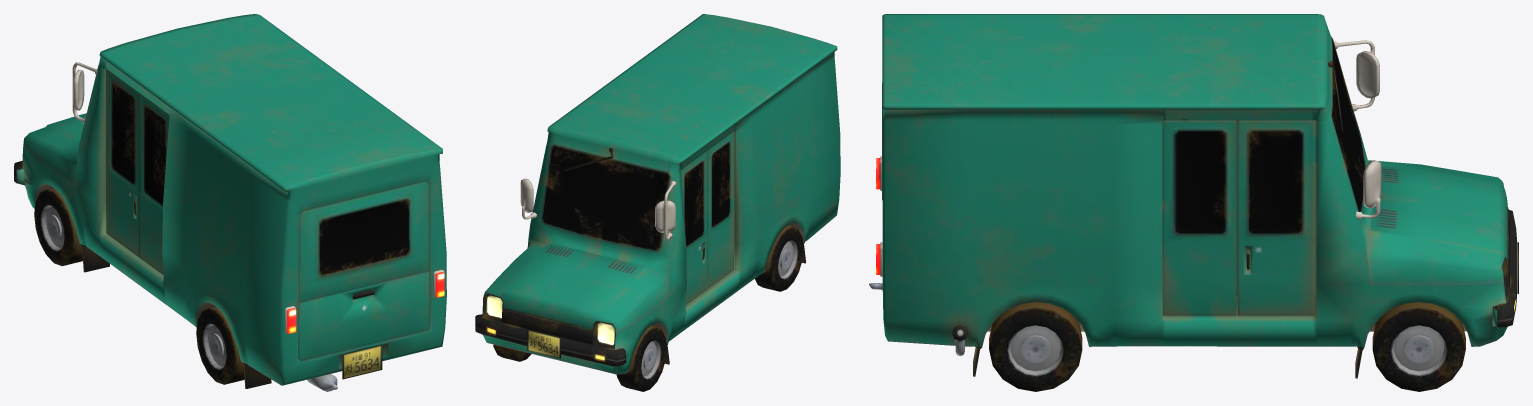
File: car-truck.glb
3 renders of one model, left to right at view 1: azimuth 30°, elevation 25°; view 2: azimuth 150°, elevation 25°; view 3: azimuth 270°, elevation 25°, orthographic. The views are drawn at different scales.
Visible parts, largest first — view 1: car-truck_000; view 2: car-truck_000; view 3: car-truck_000.
Boxes of the visible parts, x1,y1,x2,y2 form: car-truck_000: [14, 14, 446, 391]; car-truck_000: [475, 14, 840, 391]; car-truck_000: [869, 14, 1518, 391].
Bounding box in the file's own units: 1.97 × 2.45 × 5.
Materials: 1 (1 with a texture image).
